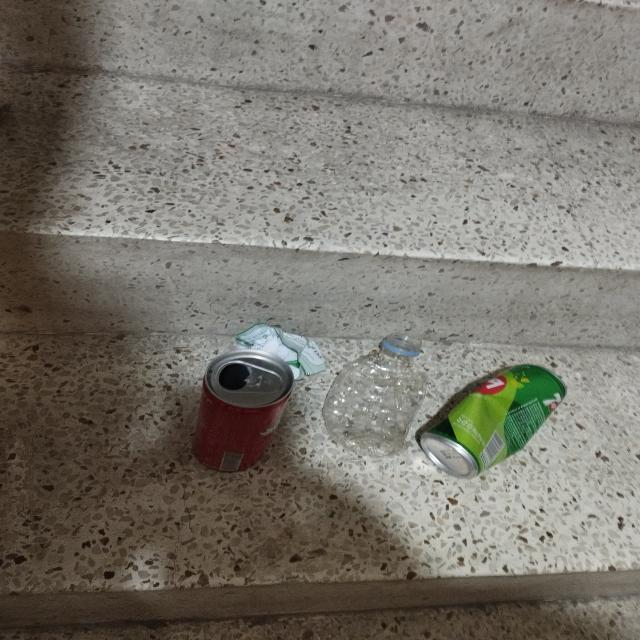aluminum: (416, 364, 566, 480), (193, 354, 295, 476)
paper: (229, 322, 328, 379)
plastic: (326, 333, 424, 454)
